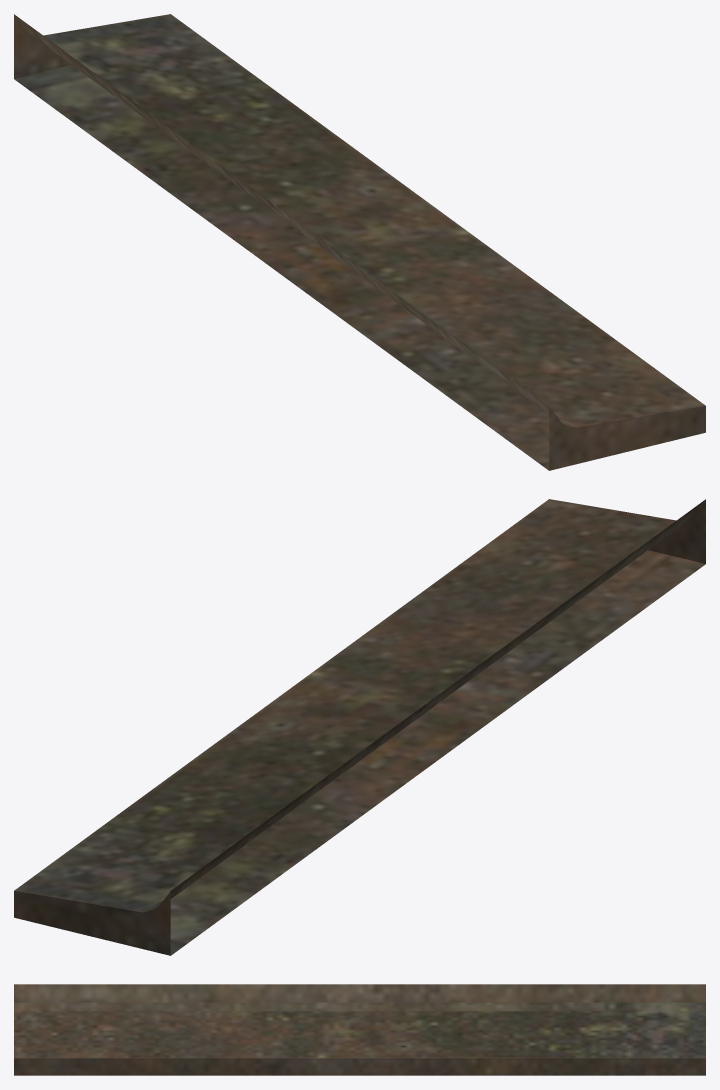
Rendered from WindowTop_L.FBX.
3 views of the same model, one above another, from view 1: azimuth 30°, elevation 25°; view 2: azimuth 150°, elevation 25°; view 3: azimuth 270°, elevation 25° (orthographic). The views are drawn at different scales.
Parts seen in each view (by area): view 1: WindowTop_L; view 2: WindowTop_L; view 3: WindowTop_L.
Part boxes in pixels (left/top/right/bottom): WindowTop_L: left=14, top=14, right=705, bottom=470; WindowTop_L: left=14, top=499, right=705, bottom=955; WindowTop_L: left=14, top=984, right=705, bottom=1075.
Bounding box in the file's own units: 80.93 × 32.1 × 479.
